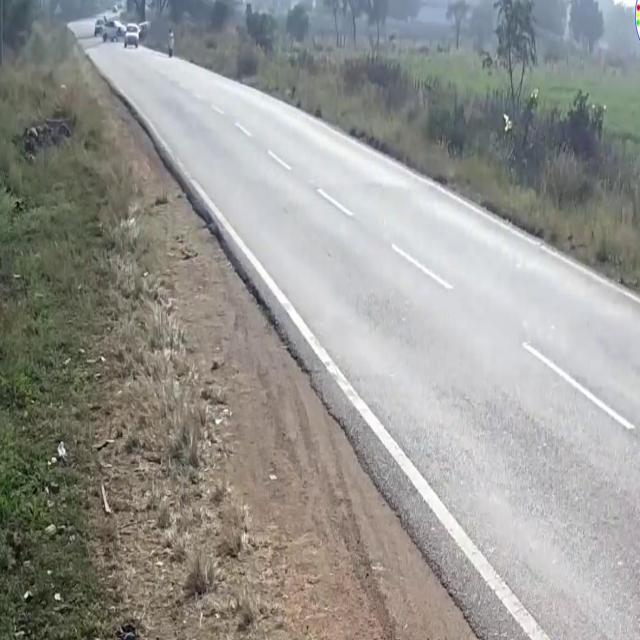accident: (97, 12, 143, 52)
